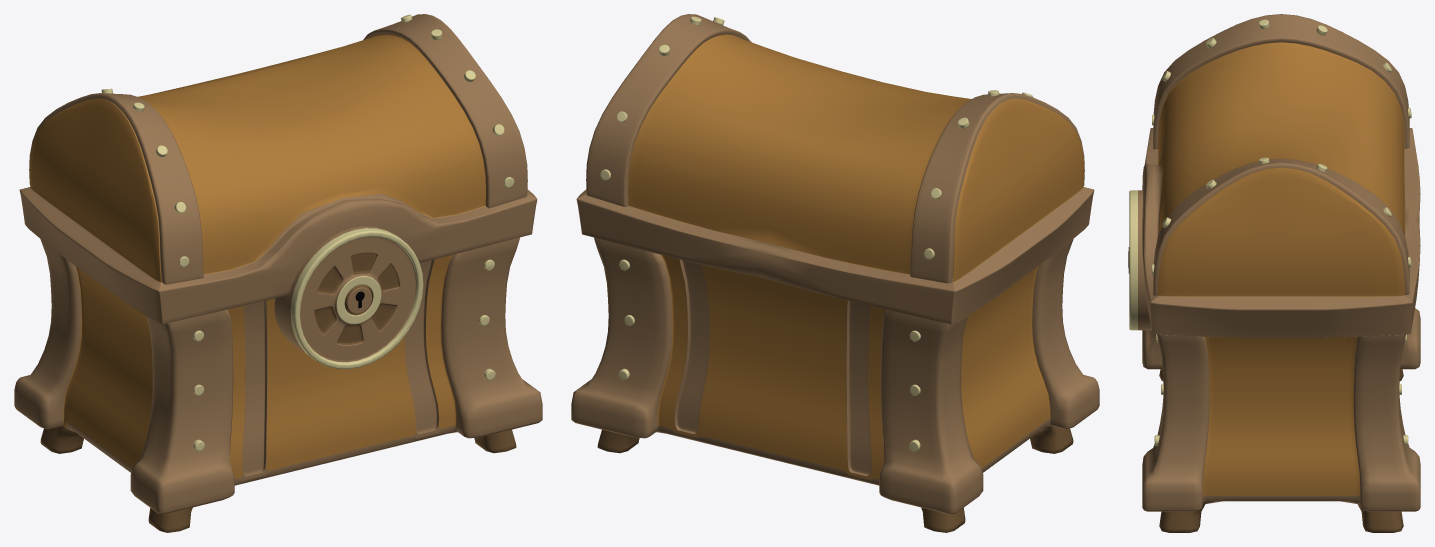
The model's file is Bau.fbx.
The picture shows the model from 3 angles, left to right: view 1: azimuth 30°, elevation 25°; view 2: azimuth 150°, elevation 25°; view 3: azimuth 270°, elevation 25°; orthographic projection. The views are drawn at different scales.
Visible parts, largest first — view 1: polySurface18, polySurface1, pCylinder1; view 2: polySurface18, polySurface1; view 3: polySurface18, polySurface1, pCylinder1.
Boxes of the visible parts, left/top/right/bottom form: polySurface18: left=19, top=14, right=537, bottom=324; polySurface1: left=14, top=237, right=542, bottom=532; pCylinder1: left=274, top=226, right=423, bottom=369; polySurface18: left=576, top=14, right=1094, bottom=324; polySurface1: left=571, top=237, right=1099, bottom=532; polySurface18: left=1142, top=14, right=1420, bottom=337; polySurface1: left=1142, top=308, right=1420, bottom=532; pCylinder1: left=1128, top=190, right=1151, bottom=330.
Size of what is drawn, in the model's own units: 15.1 by 14.05 by 10.26.
